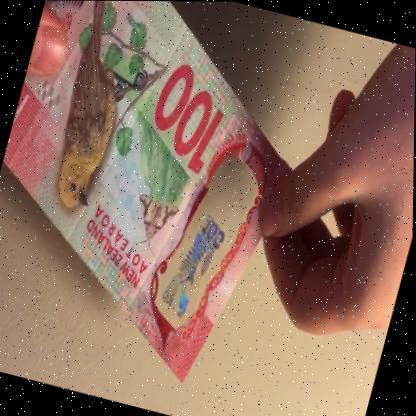100B: (158, 202, 239, 329)
